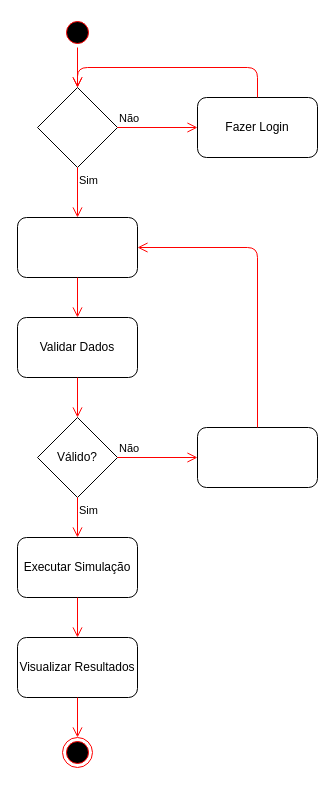
Some shapes in this 335 by 785 pixel diagram are drawn without their labels. Here are the shapes that lost their labels. From the top down, the centre of each, then its label:
At point 77,127: "Autenticado?".
At point 77,247: "Preencher Formulário (Requisitos)".
At point 257,457: "Mostrar Erro".
